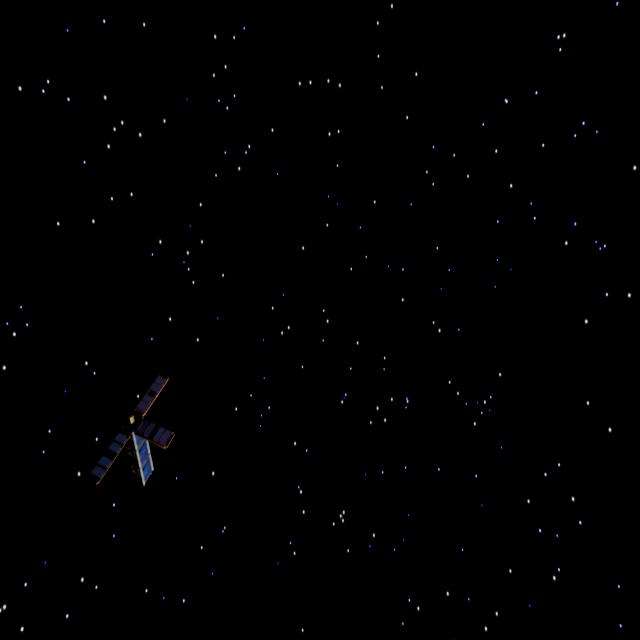satellite: (88, 375, 183, 492)
